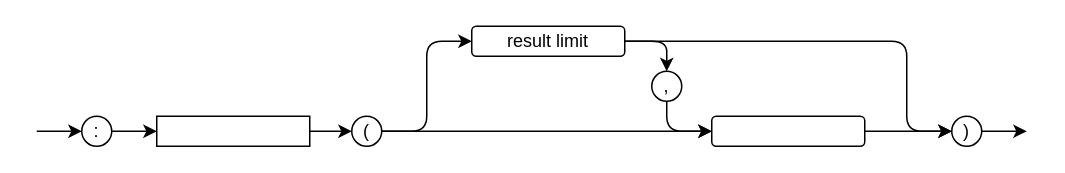
Some shapes in this 1065 by 173 pixel diagram are drawn without their labels. The centre of each missing label's shape, as x and y in pixels:
select: the point at 232,130
selector: the point at 787,130
